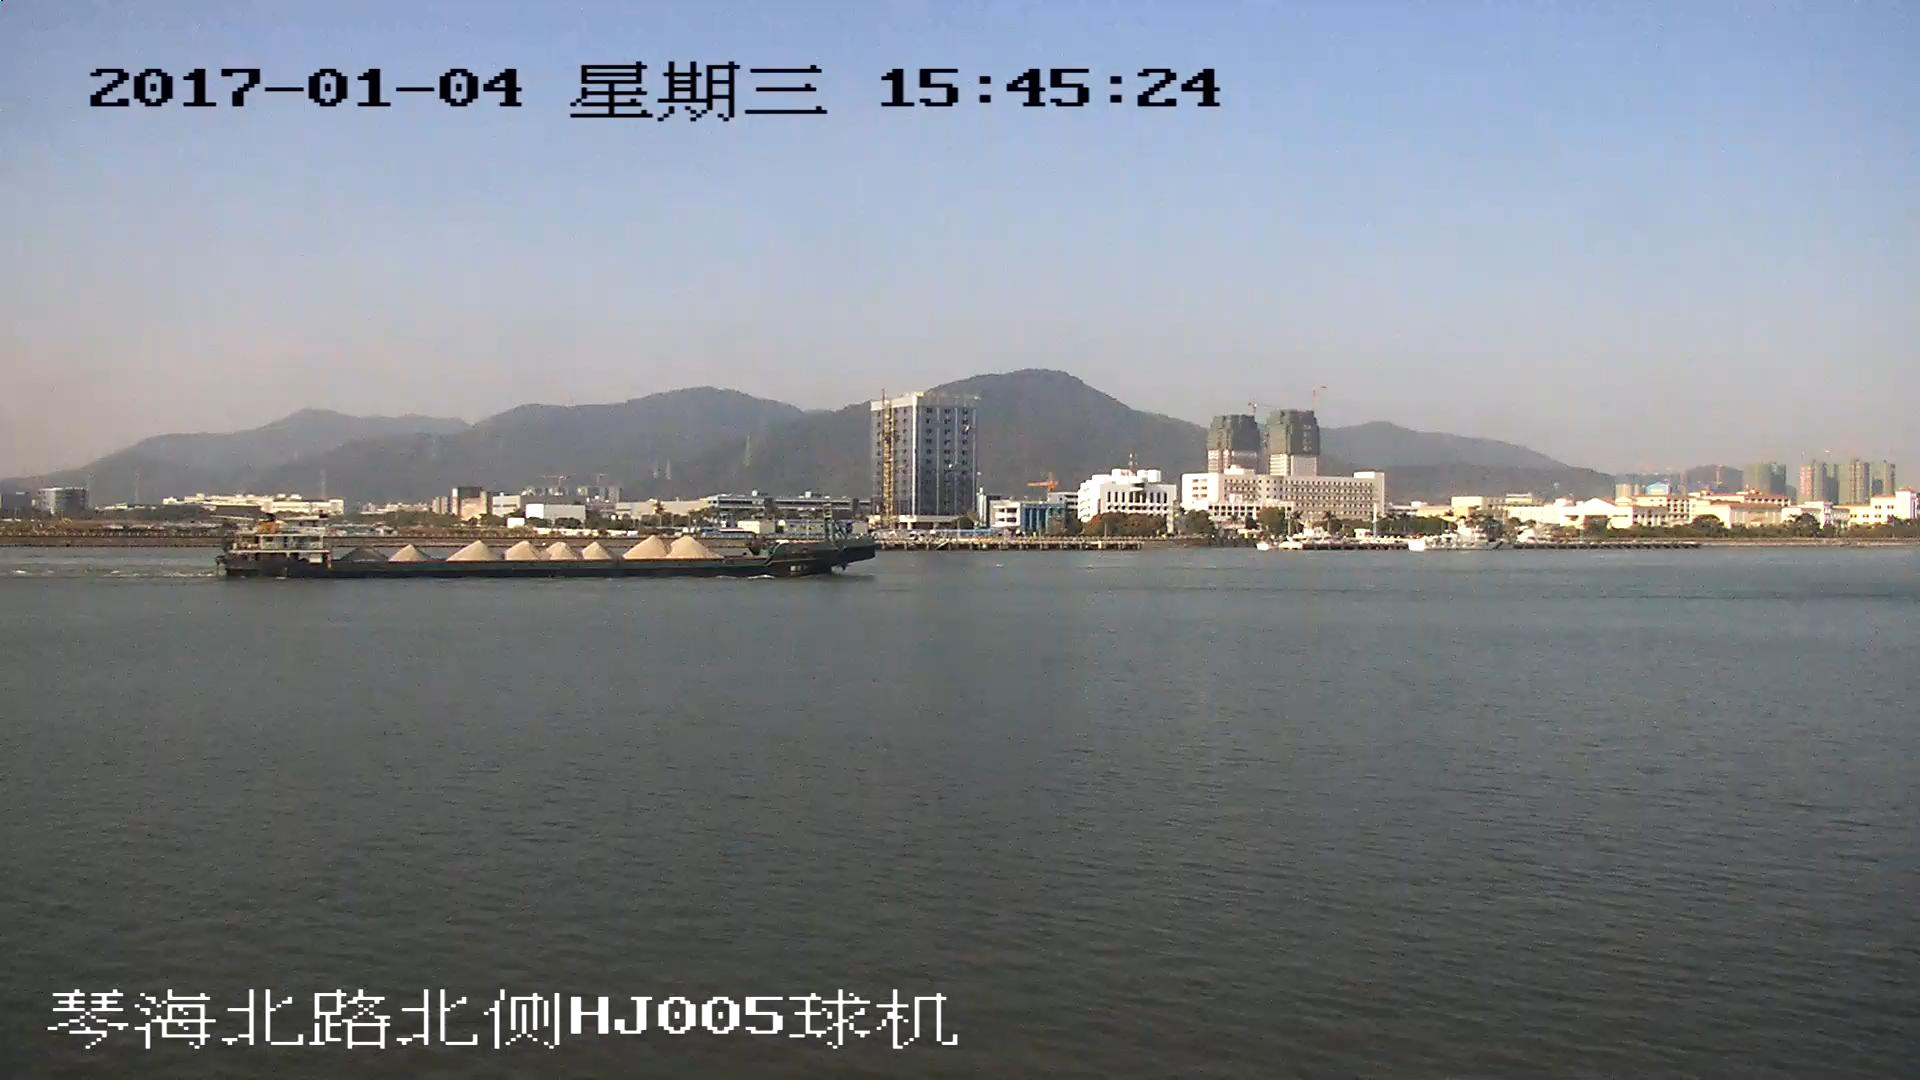ore carrier: (222, 513, 878, 579)
